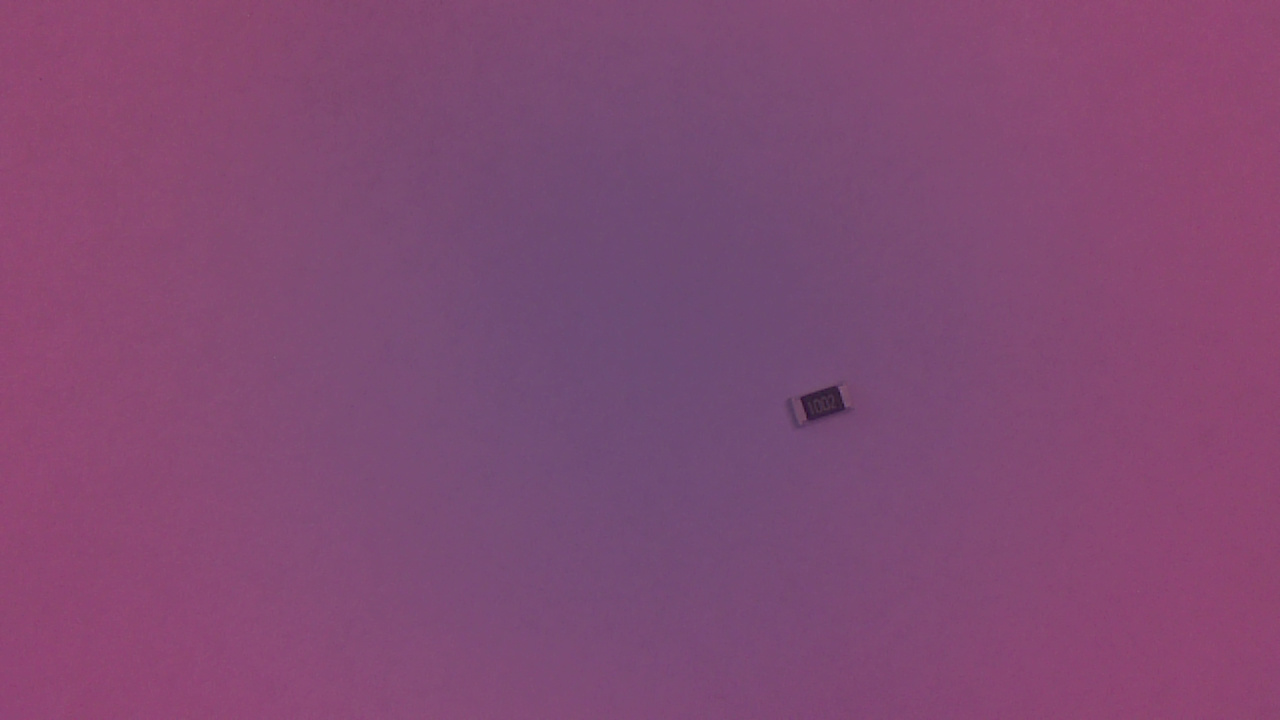Resistor: (784, 379, 863, 437)
